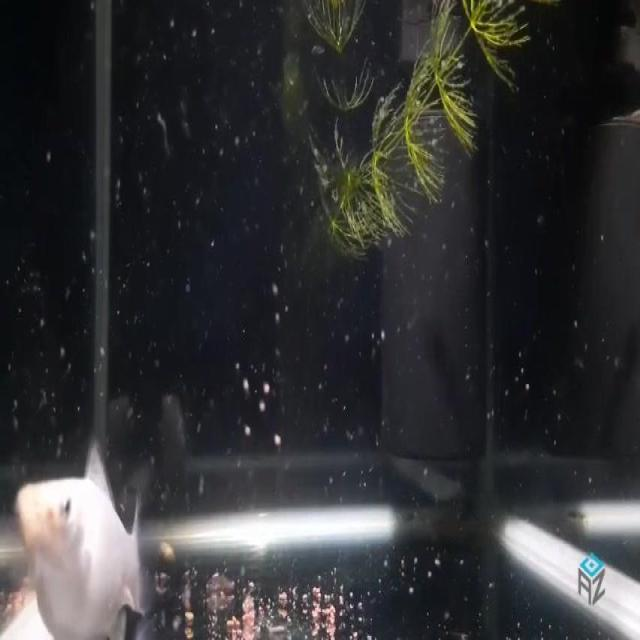PlatyFish: (9, 433, 166, 640)
